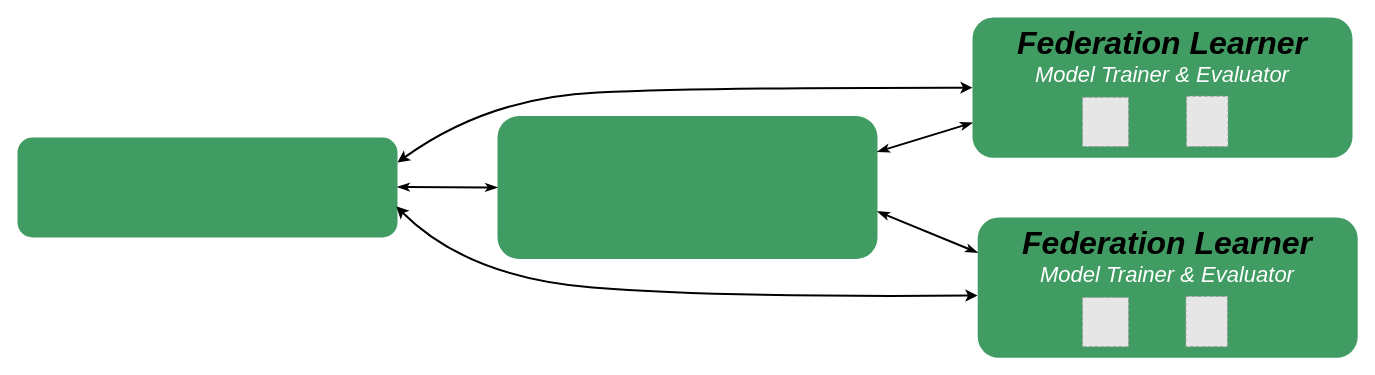
Image size: 1375x375. Some labels were removed from this diagram. Grey dashed boxes stand in for pictures. The box of each missing label's shape, as (x1, y1, x2, y2) in pixels:
Federation Controller Cluster Manager: (497, 116, 877, 258)
Federation Driver MetisFL Context: (17, 137, 397, 237)
